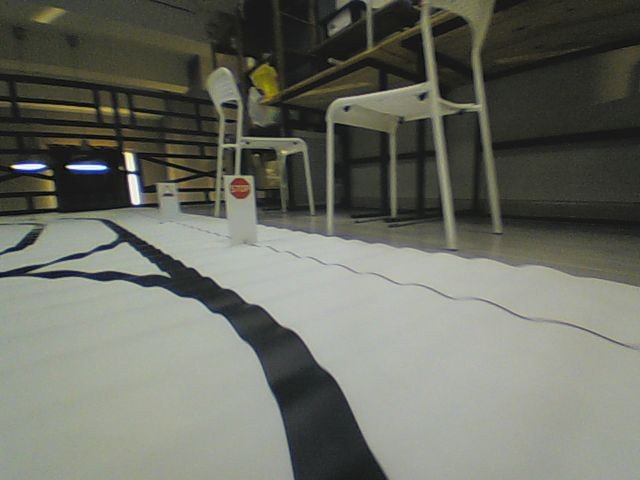Stop: (227, 176, 252, 199)
